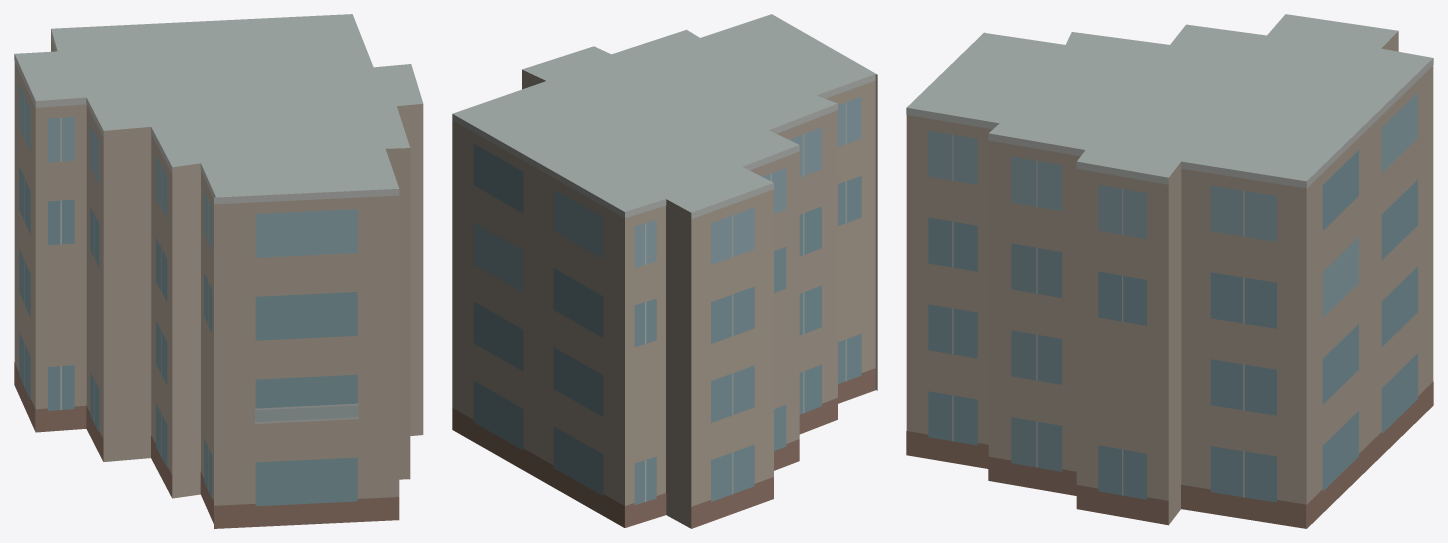
The model's file is survey-upis-32837015.glb.
3 views of the same model, side by side, from view 1: azimuth 30°, elevation 25°; view 2: azimuth 150°, elevation 25°; view 3: azimuth 270°, elevation 25° (orthographic). The views are drawn at different scales.
Visible parts, largest first — view 1: survey-upis-32837015.tmp; view 2: survey-upis-32837015.tmp; view 3: survey-upis-32837015.tmp.
Boxes of the visible parts, <box> form: survey-upis-32837015.tmp: <box>14,14,423,528</box>; survey-upis-32837015.tmp: <box>452,14,877,528</box>; survey-upis-32837015.tmp: <box>906,14,1433,528</box>.
Bounding box in the file's own units: 12.33 × 11.93 × 16.41.
